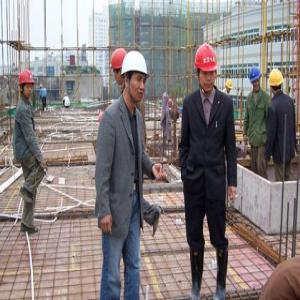blue: (249, 65, 262, 92)
red: (192, 41, 219, 91), (110, 47, 128, 86), (18, 69, 35, 102)
white: (121, 48, 149, 104)
yellow: (269, 68, 284, 93), (225, 77, 233, 93)
